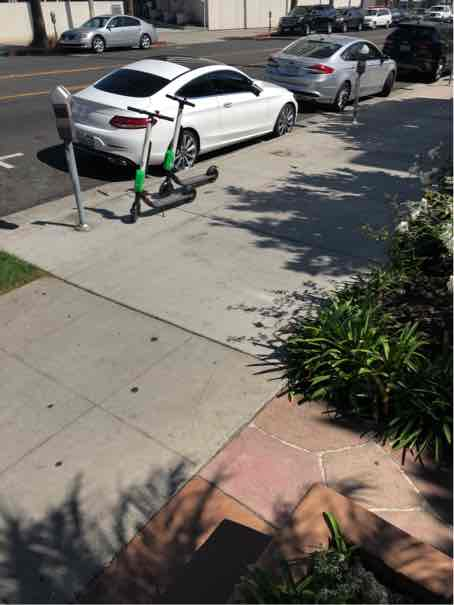scooter: (124, 102, 207, 224), (155, 88, 222, 195)
